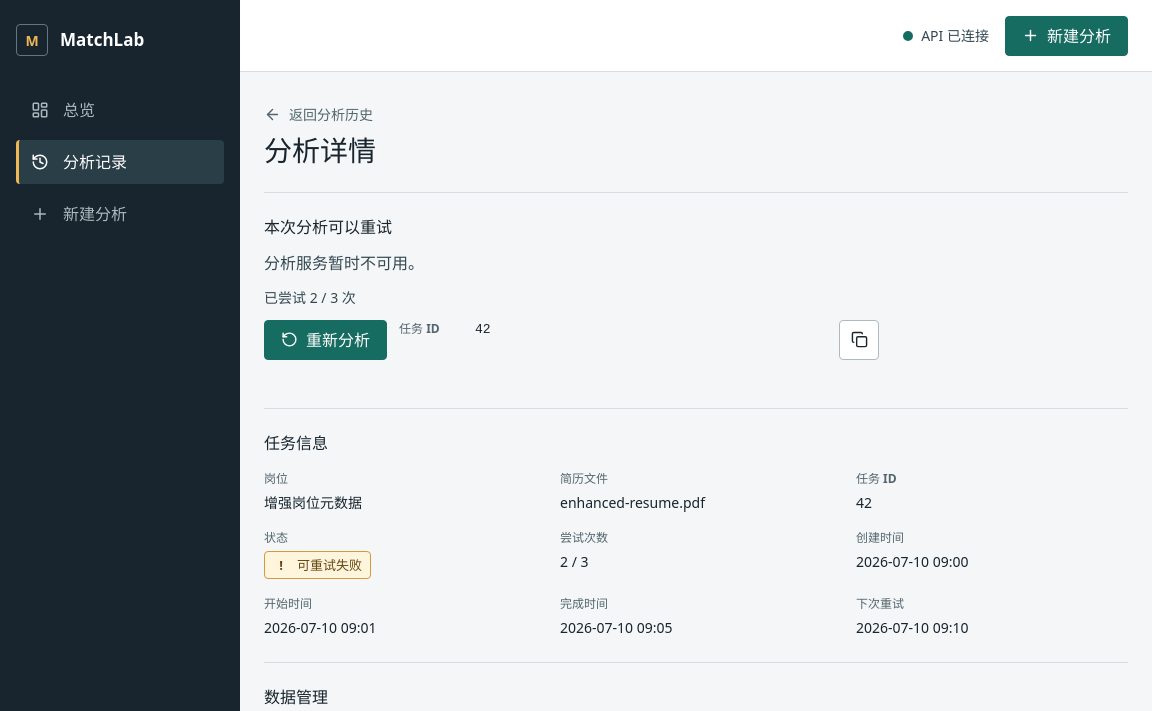
preserves enhanced metadata from a null retry DTO when the task refresh fails
This screenshot has width=1152, height=711.
Step 1. Click the button "重新分析" → point(326, 340), box [264, 320, 387, 360]
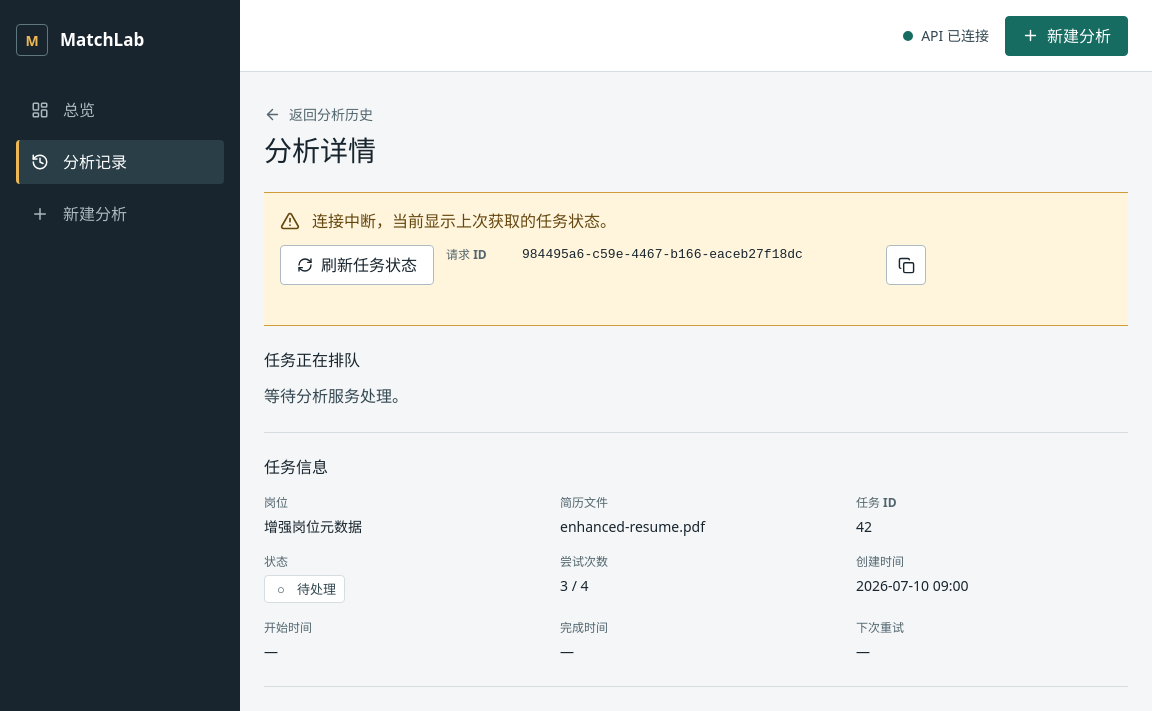
Expected: the text "增强岗位元数据" is shown, [264, 517, 362, 536]
Expected: the text "待处理" is shown, [297, 580, 336, 598]
Expected: the text "连接中断，当前显示上次获取的任务状态。" is shown, [312, 209, 616, 233]
